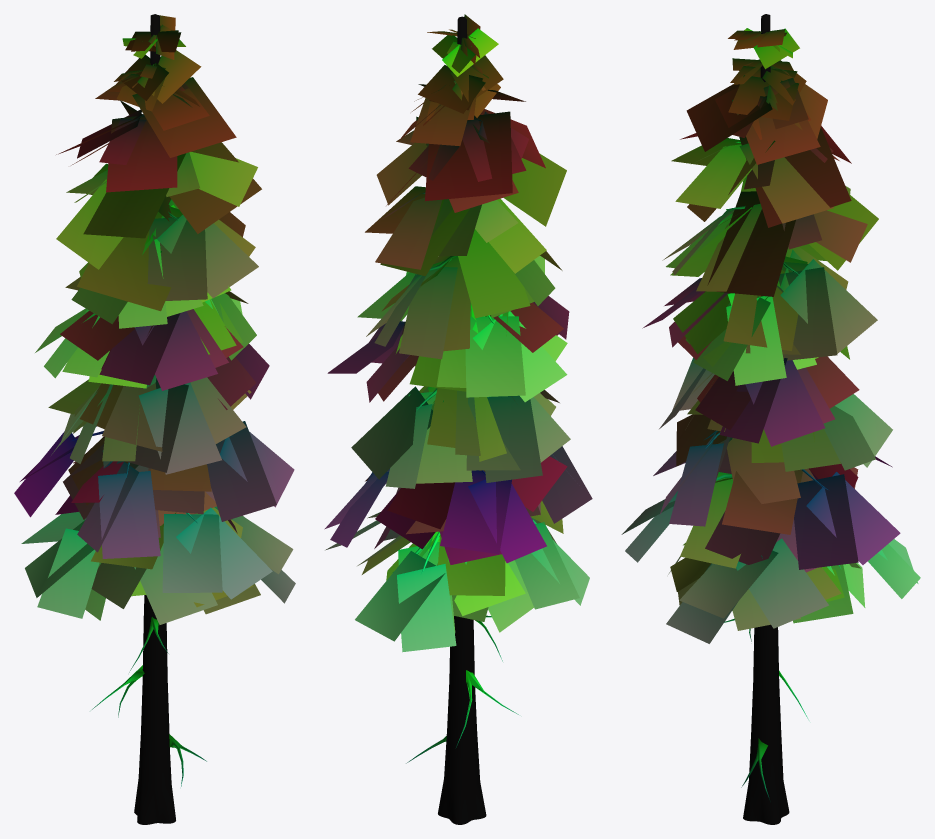
Rendered from M_Pine_4_3.fbx.
3 renders of one model, left to right at view 1: azimuth 30°, elevation 25°; view 2: azimuth 150°, elevation 25°; view 3: azimuth 270°, elevation 25°, orthographic.
Parts seen in each view (by area): view 1: Tree_3; view 2: Tree_3; view 3: Tree_3.
Boxes of the visible parts, x1,y1,x2,y2 form: Tree_3: (14,14,295,824); Tree_3: (324,14,592,824); Tree_3: (621,14,920,824).
Size of the model in its own units: 1078 by 3490 by 1184.
